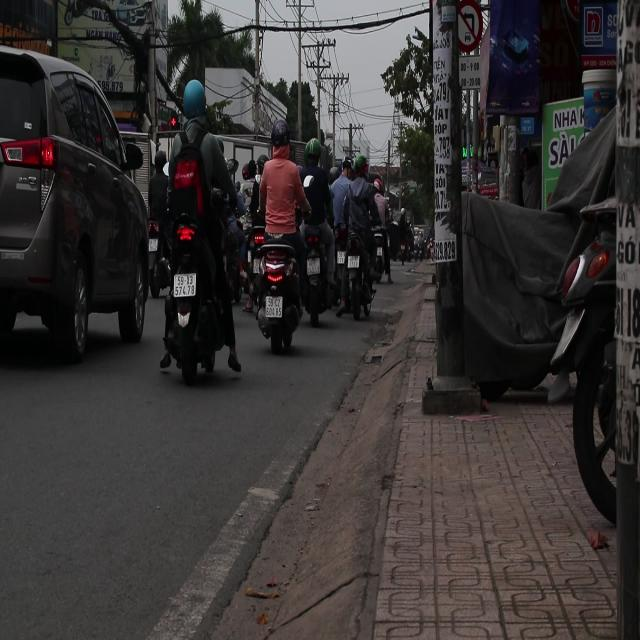car: (0, 45, 152, 366)
motorbike: (165, 212, 235, 398), (248, 235, 307, 352), (335, 223, 382, 322), (302, 226, 335, 327)
